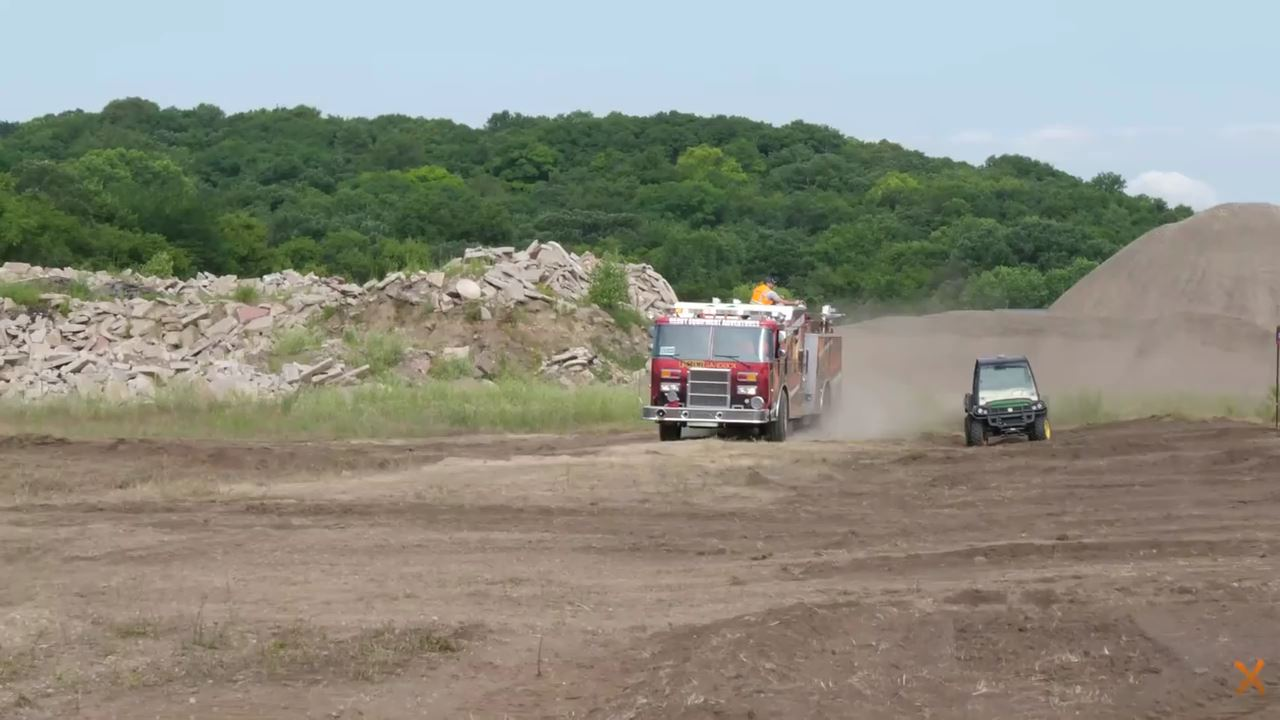con_eq: (638, 271, 847, 448), (958, 348, 1055, 448)
